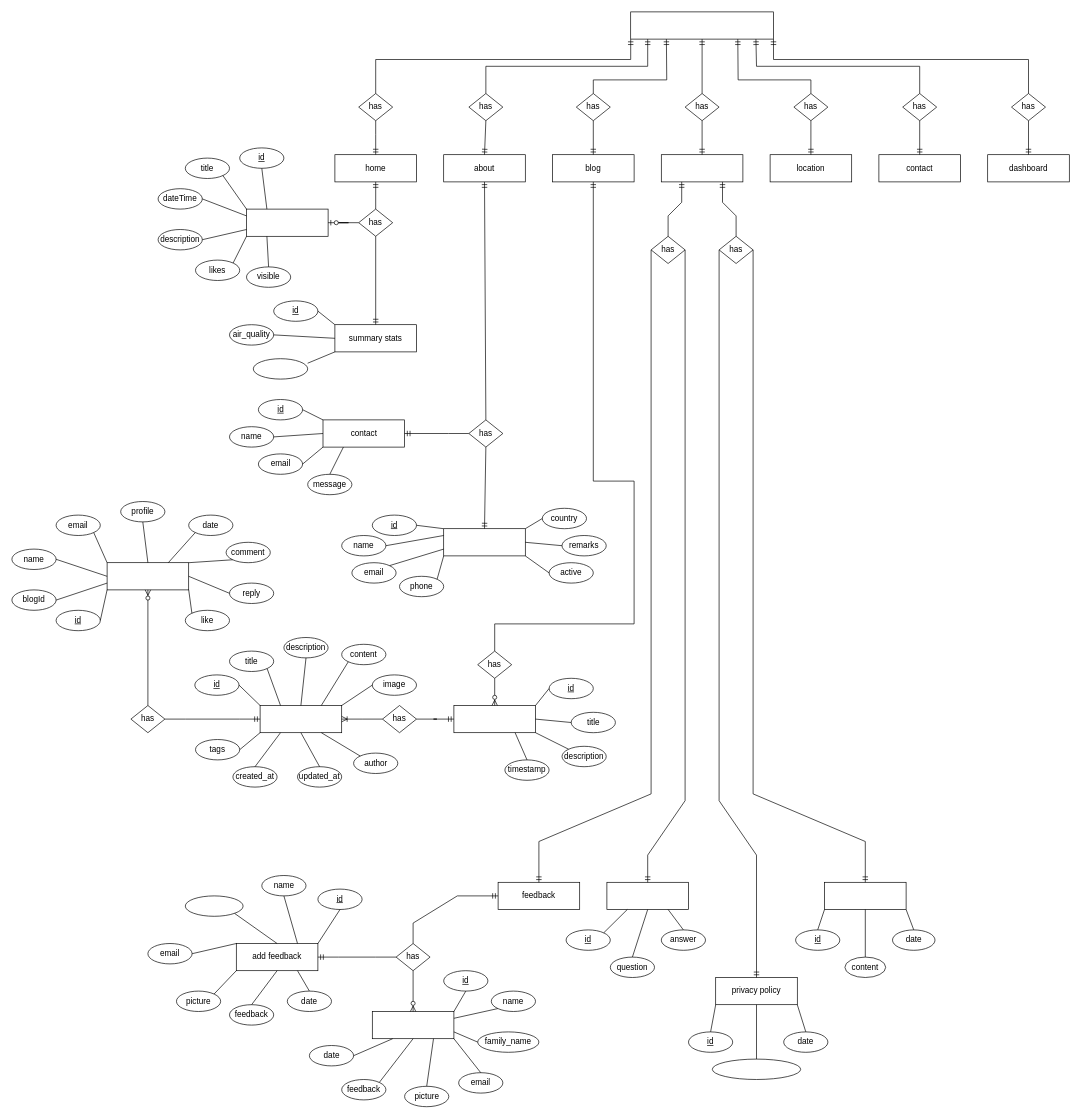
The diagram is 1081 pixels wide and 1119 high, and some of its shapes have lost their labels. Each missing label, with the box of its shape:
blog list: (453, 705, 536, 733)
blogs: (259, 705, 342, 733)
comments: (106, 562, 189, 590)
familiy_name: (185, 895, 243, 916)
FAQ: (606, 882, 688, 910)
feedback list: (372, 1011, 454, 1039)
forecast: (246, 208, 328, 236)
markdownContent: (712, 1058, 801, 1080)
metrological: (253, 358, 308, 379)
pages: (661, 154, 743, 182)
request register: (443, 528, 525, 556)
terms & conditions: (824, 882, 906, 910)
Urban air quality monitoring and prediction system: (630, 11, 774, 39)
